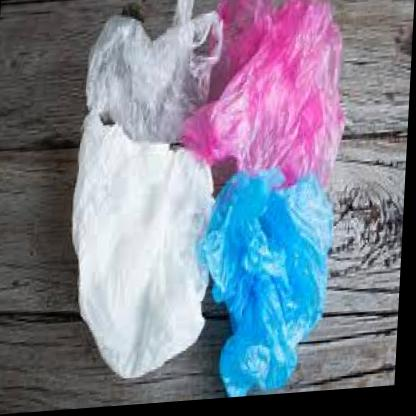Plastic: (46, 139, 216, 385), (204, 180, 340, 392), (212, 0, 356, 194), (72, 9, 216, 152)
